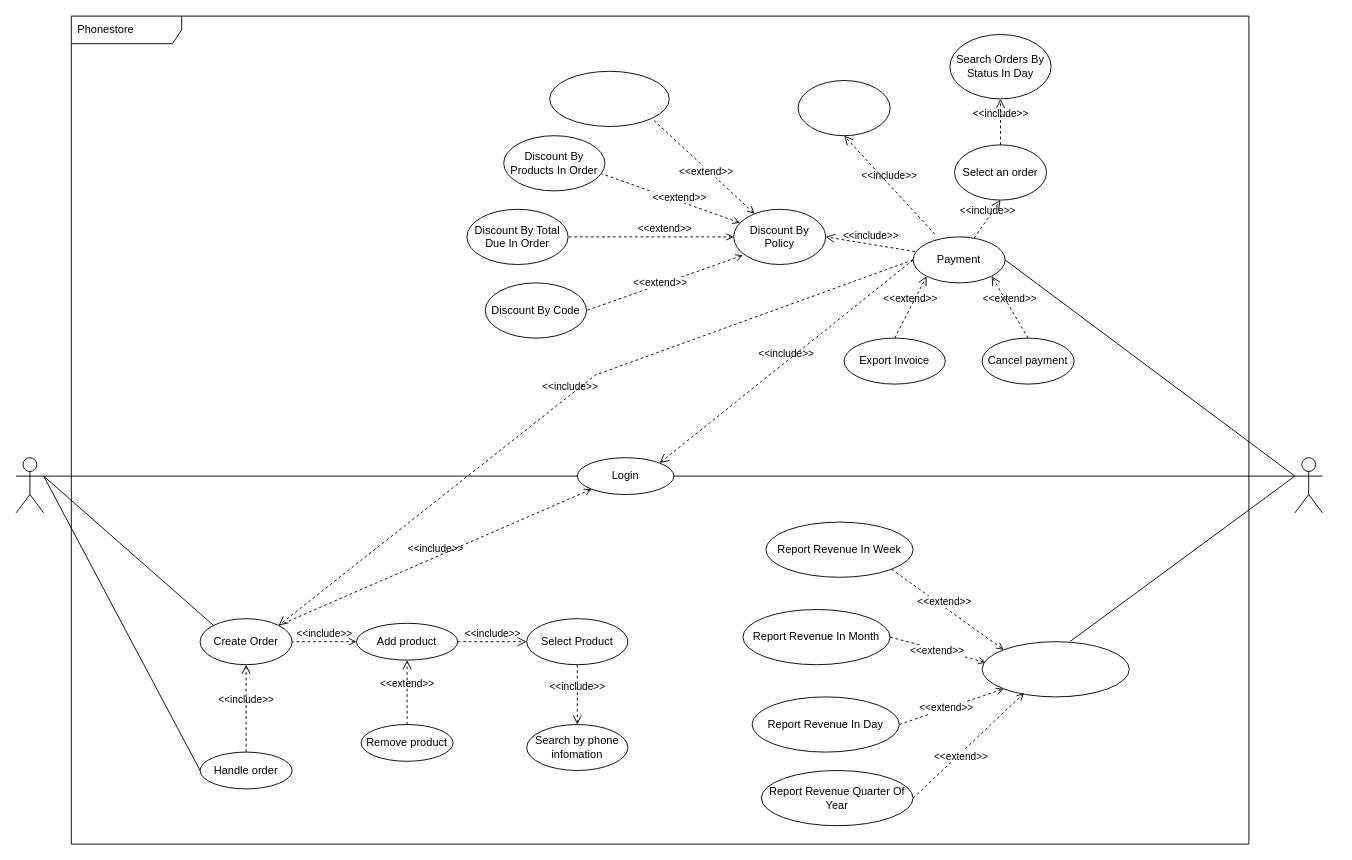
The diagram is 1352 pixels wide and 860 high, and some of its shapes have lost their labels. The centre of each missing label's shape, as x and y in pixels:
"Accountant" belongs at point 1308,485.
"Discount By Customer Information" belongs at point 609,98.
"Discount By Payment Method" belongs at point 843,108.
"Report" belongs at point 1055,669.
"Seller" belongs at point 29,485.
